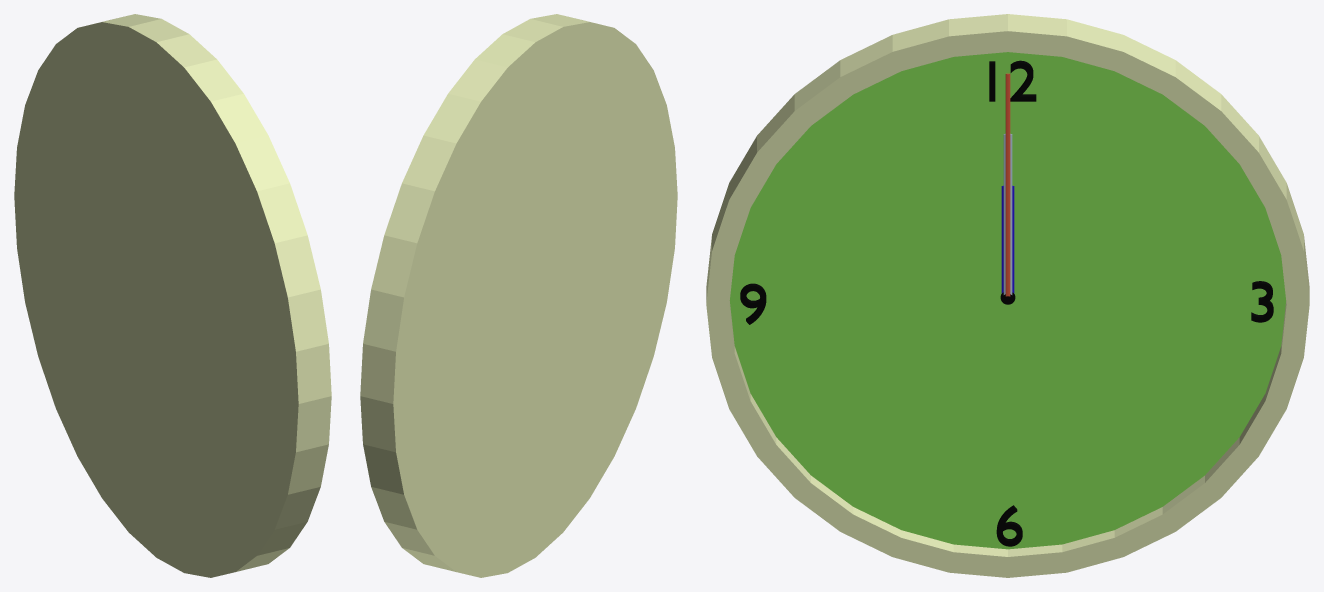
3 views of the same model, side by side, from view 1: azimuth 30°, elevation 25°; view 2: azimuth 150°, elevation 25°; view 3: azimuth 270°, elevation 25° (orthographic). The views are drawn at different scales.
Parts seen in each view (by area): view 1: Clock; view 2: Clock; view 3: Clock, secondHand, minuteHand, 12.
Part boxes in pixels (x1,y1,x2,y2): Clock: [14, 14, 331, 577]; Clock: [360, 14, 677, 577]; Clock: [706, 14, 1309, 577]; secondHand: [1005, 73, 1010, 296]; minuteHand: [1003, 134, 1012, 294]; 12: [989, 60, 1036, 101].
Size of the model in its own units: 0.1343 by 2 by 2.
